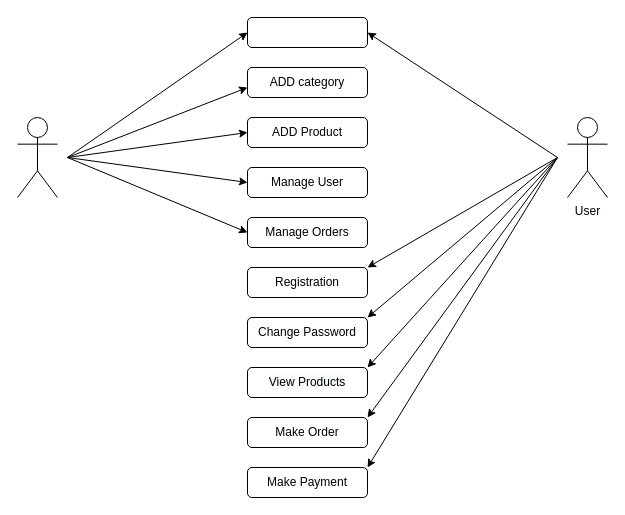
This 625x515 diagram has some shape labels left out. The box of each missing label's shape, as (x1, y1, x2, y2) in pixels:
Admin: (16, 116, 58, 198)
Login: (246, 16, 368, 48)
